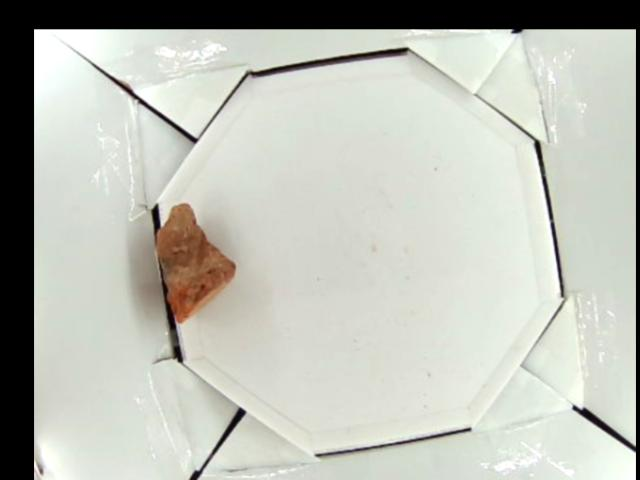Brisk: (154, 202, 233, 321)
